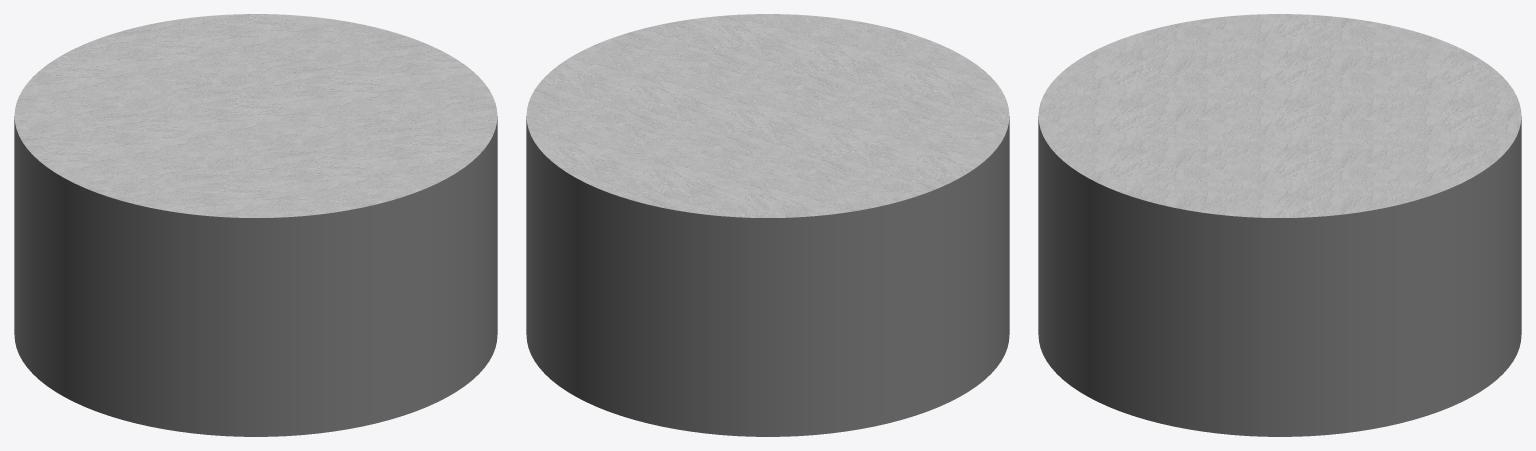
File: asteroid_v2.gltf
3 views of the same model, side by side, from view 1: azimuth 30°, elevation 25°; view 2: azimuth 150°, elevation 25°; view 3: azimuth 270°, elevation 25° (orthographic).
Parts seen in each view (by area): view 1: root; view 2: root; view 3: root.
Boxes of the visible parts, box(x1,y1,x2,y2) form: root: box(14, 14, 497, 436); root: box(526, 14, 1009, 436); root: box(1038, 14, 1521, 436).
Size of the model in its own units: 2 by 1 by 2.
2 materials, 1 textured.
